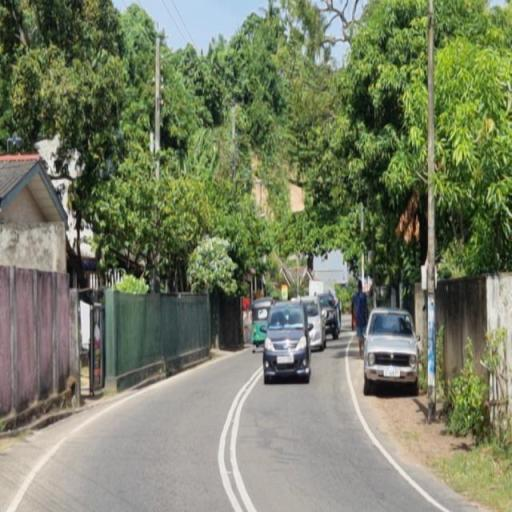double_white_line: (218, 366, 262, 512)
